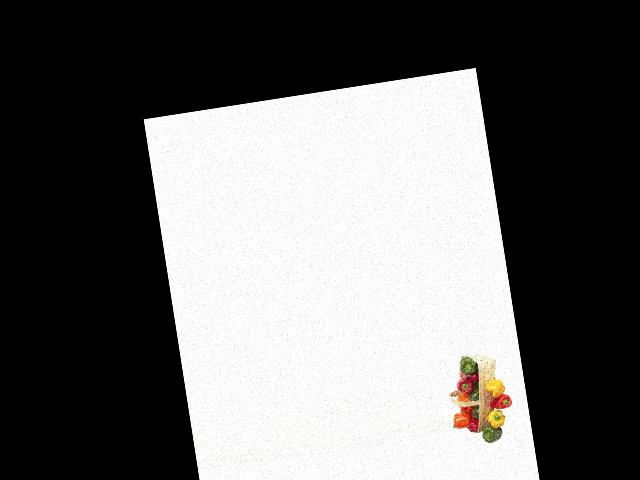bell_pepper: (458, 355, 477, 378)
